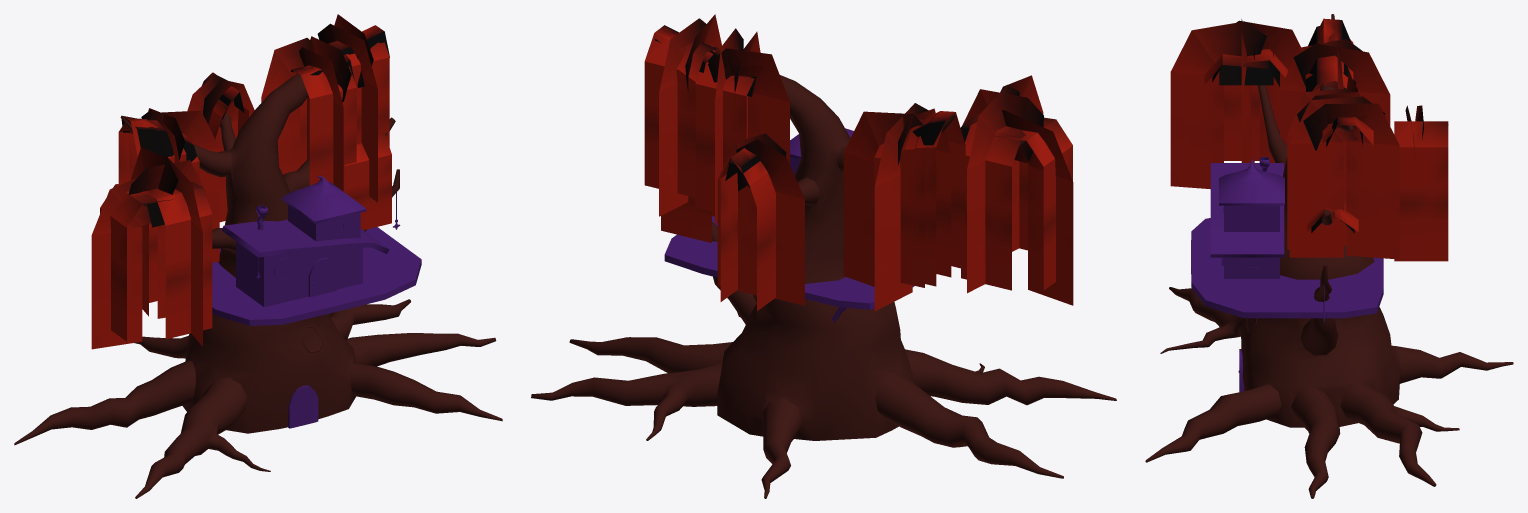
The model's file is Lmoreno_MagicTree_Full.fbx.
3 renders of one model, left to right at view 1: azimuth 30°, elevation 25°; view 2: azimuth 150°, elevation 25°; view 3: azimuth 270°, elevation 25°, orthographic. The views are drawn at different scales.
Parts seen in each view (by area): view 1: TreeTrunk_01, HousePlatform_01, BasePlane_001, BasePlane_014, House_Box, BasePlane_011, Roof_01, BasePlane_010, BasePlane_002, CurvedPlane_008, CurvedPlane_002, roof_02 (+18 smaller); view 2: TreeTrunk_01, BasePlane_017, BasePlane_014, BasePlane_008, BasePlane_003, BasePlane_016, CurvedPlane_005, CurvedPlane_010, BasePlane_013, CurvedPlane_002, CurvedPlane_012, CurvedPlane_007 (+14 smaller); view 3: TreeTrunk_01, CurvedPlane_011, HousePlatform_01, CurvedPlane_007, BasePlane_006, CurvedPlane_008, Roof_01, BasePlane_002, CurvedPlane_010, roof_02, CurvedPlane_012, CurvedPlane_009 (+11 smaller).
Part boxes in pixels (left/top/right/bottom): TreeTrunk_01: left=14, top=74, right=502, bottom=498; HousePlatform_01: left=212, top=227, right=421, bottom=325; BasePlane_001: left=148, top=182, right=212, bottom=339; BasePlane_014: left=91, top=177, right=150, bottom=349; House_Box: left=236, top=241, right=362, bottom=307; BasePlane_011: left=291, top=55, right=356, bottom=192; Roof_01: left=221, top=219, right=389, bottom=257; BasePlane_010: left=345, top=132, right=391, bottom=230; BasePlane_002: left=100, top=183, right=172, bottom=341; CurvedPlane_008: left=317, top=23, right=377, bottom=202; CurvedPlane_002: left=261, top=38, right=310, bottom=174; roof_02: left=281, top=175, right=366, bottom=223; TreeTrunk_01: left=531, top=75, right=1116, bottom=498; BasePlane_017: left=843, top=111, right=922, bottom=286; BasePlane_014: left=1002, top=109, right=1073, bottom=305; BasePlane_008: left=644, top=25, right=715, bottom=197; BasePlane_003: left=961, top=122, right=1025, bottom=290; BasePlane_016: left=900, top=116, right=951, bottom=286; CurvedPlane_005: left=736, top=139, right=804, bottom=305; CurvedPlane_010: left=874, top=103, right=928, bottom=310; BasePlane_013: left=695, top=47, right=754, bottom=212; CurvedPlane_002: left=708, top=48, right=789, bottom=163; CurvedPlane_012: left=967, top=85, right=1019, bottom=293; CurvedPlane_007: left=659, top=18, right=706, bottom=216; TreeTrunk_01: left=1145, top=14, right=1513, bottom=498; CurvedPlane_011: left=1170, top=21, right=1266, bottom=189; HousePlatform_01: left=1191, top=218, right=1383, bottom=318; CurvedPlane_007: left=1303, top=103, right=1399, bottom=259; BasePlane_006: left=1394, top=121, right=1448, bottom=261; CurvedPlane_008: left=1289, top=96, right=1384, bottom=257; Roof_01: left=1210, top=163, right=1284, bottom=257; BasePlane_002: left=1219, top=52, right=1273, bottom=160; CurvedPlane_010: left=1293, top=43, right=1390, bottom=126; roof_02: left=1219, top=159, right=1284, bottom=205; CurvedPlane_012: left=1236, top=20, right=1300, bottom=162; CurvedPlane_009: left=1280, top=39, right=1362, bottom=145.
Bounding box in the file's own units: 2436 × 1660 × 1675.
